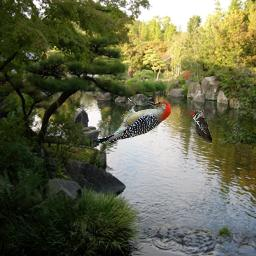Woodpecker: (95, 97, 172, 145), (190, 110, 212, 143)
